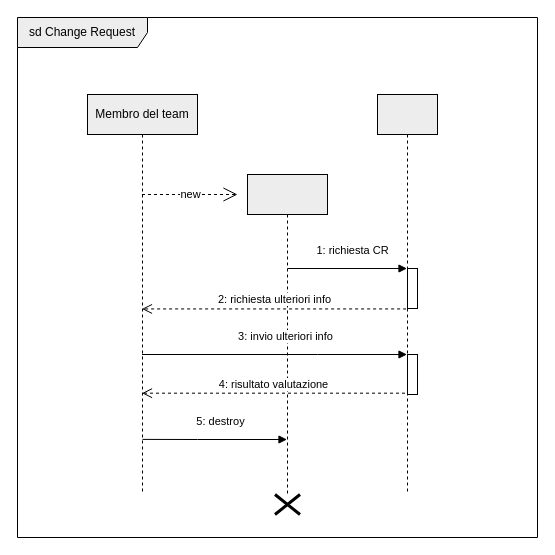
Some shapes in this 555 by 555 pixel diagram are drawn without their labels. The box of each missing label's shape, as (x1, y1, x2, y2) in pixels:
CCB: (376, 94, 438, 494)
CR: (246, 174, 328, 494)
